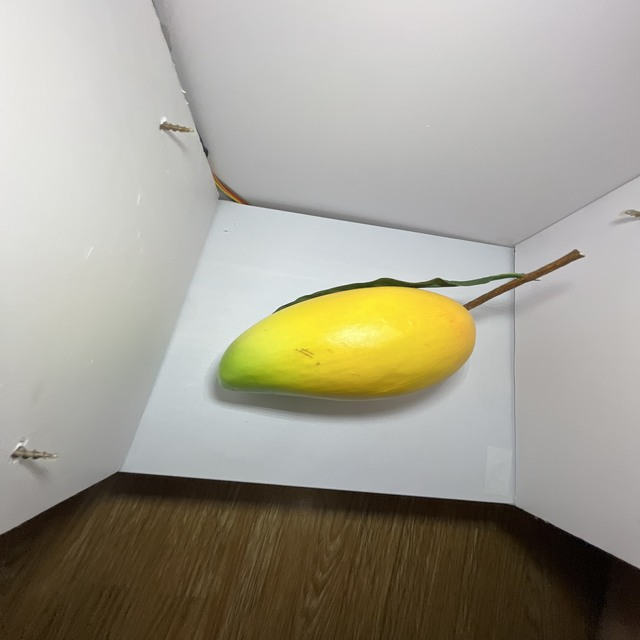Xoai: (193, 236, 497, 463)
